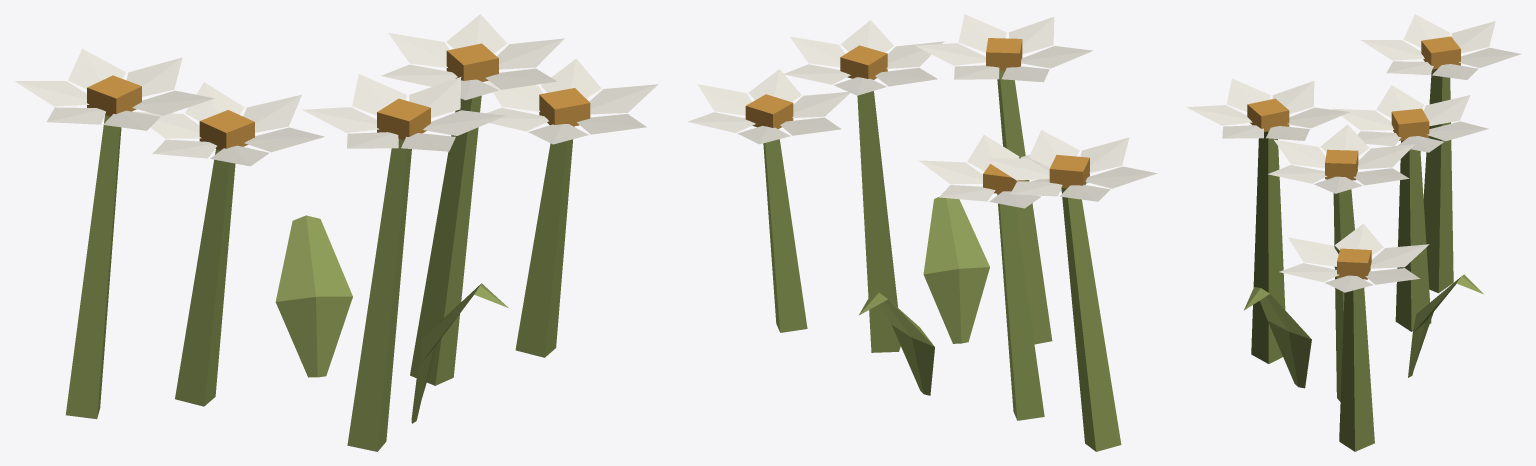
File: foliage_flower_drift_a.glb
The picture shows the model from 3 angles, left to right: view 1: azimuth 30°, elevation 25°; view 2: azimuth 150°, elevation 25°; view 3: azimuth 270°, elevation 25°; orthographic projection. The views are drawn at different scales.
Parts seen in each view (by area): view 1: foliage_flower_drift_a_cluster_material_00, foliage_flower_drift_a_cluster_material_01, foliage_flower_drift_a_cluster_material_02; view 2: foliage_flower_drift_a_cluster_material_00, foliage_flower_drift_a_cluster_material_01, foliage_flower_drift_a_cluster_material_02; view 3: foliage_flower_drift_a_cluster_material_00, foliage_flower_drift_a_cluster_material_01, foliage_flower_drift_a_cluster_material_02.
Boxes of the visible parts, box(x1,y1,x2,y2) form: foliage_flower_drift_a_cluster_material_00: box(65, 95, 574, 451); foliage_flower_drift_a_cluster_material_01: box(14, 14, 658, 166); foliage_flower_drift_a_cluster_material_02: box(87, 43, 590, 150); foliage_flower_drift_a_cluster_material_00: box(763, 70, 1121, 451); foliage_flower_drift_a_cluster_material_01: box(687, 14, 1157, 208); foliage_flower_drift_a_cluster_material_02: box(745, 38, 1089, 193); foliage_flower_drift_a_cluster_material_00: box(1244, 68, 1483, 451); foliage_flower_drift_a_cluster_material_01: box(1186, 14, 1521, 292); foliage_flower_drift_a_cluster_material_02: box(1247, 36, 1460, 279).
Size of the model in its own units: 0.3522 by 0.1967 by 0.2239.
